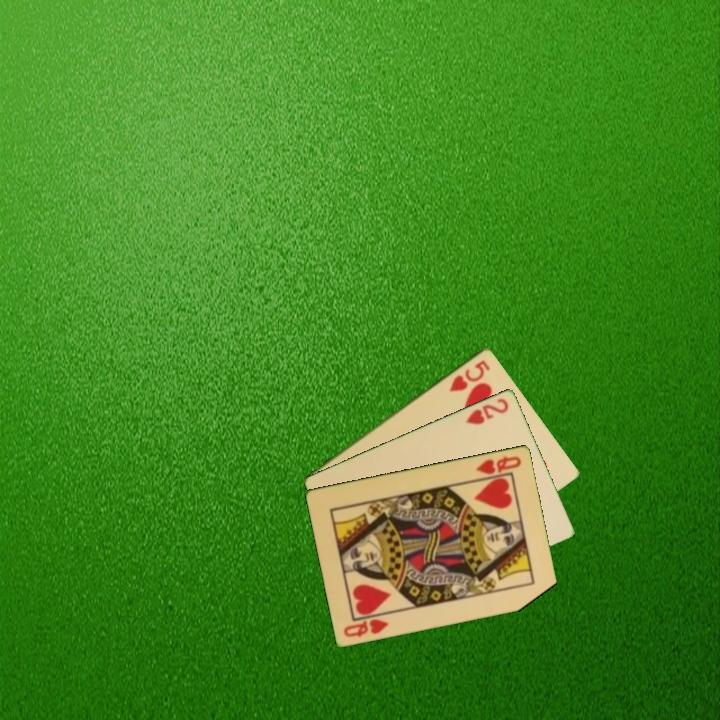2h: (462, 394, 512, 427)
5h: (446, 356, 493, 395)
Qh: (472, 452, 524, 477), (340, 615, 392, 640)
